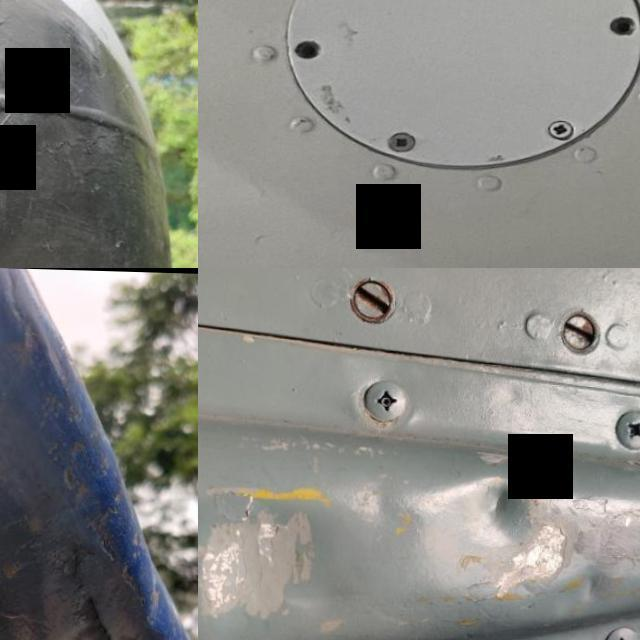Dent: (424, 444, 566, 576), (0, 556, 169, 640)
Missing_Fastener: (295, 35, 328, 59), (608, 11, 640, 34)
